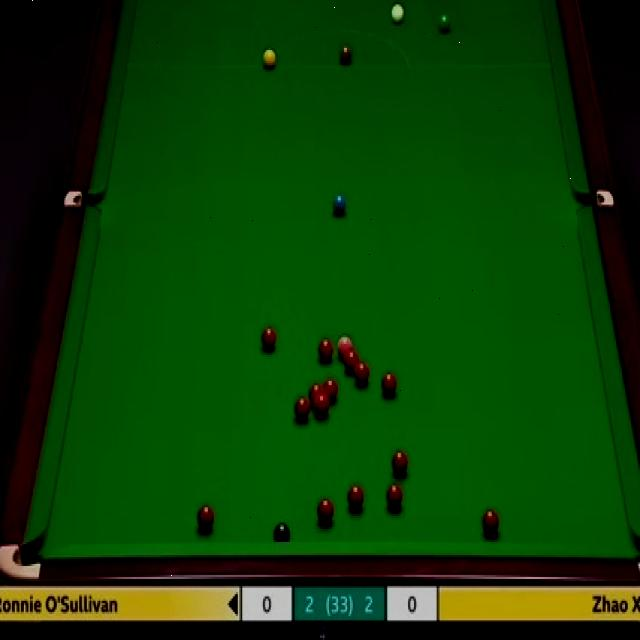black-ball: (275, 521, 294, 542)
blue-ball: (332, 195, 347, 213)
brown-ball: (339, 46, 353, 70)
green-ball: (439, 14, 450, 29)
pink-ball: (337, 335, 353, 357)
red-ball: (322, 378, 340, 406), (484, 508, 502, 536), (317, 498, 335, 525), (392, 449, 408, 479), (348, 481, 364, 511), (196, 504, 214, 530), (292, 397, 310, 422), (314, 394, 330, 418), (387, 484, 403, 508), (262, 326, 276, 352), (354, 364, 368, 387), (381, 374, 397, 394), (317, 338, 332, 359), (344, 349, 358, 371), (309, 384, 323, 405)
white-ball: (390, 2, 406, 26)
yellow-ball: (263, 48, 276, 70)
